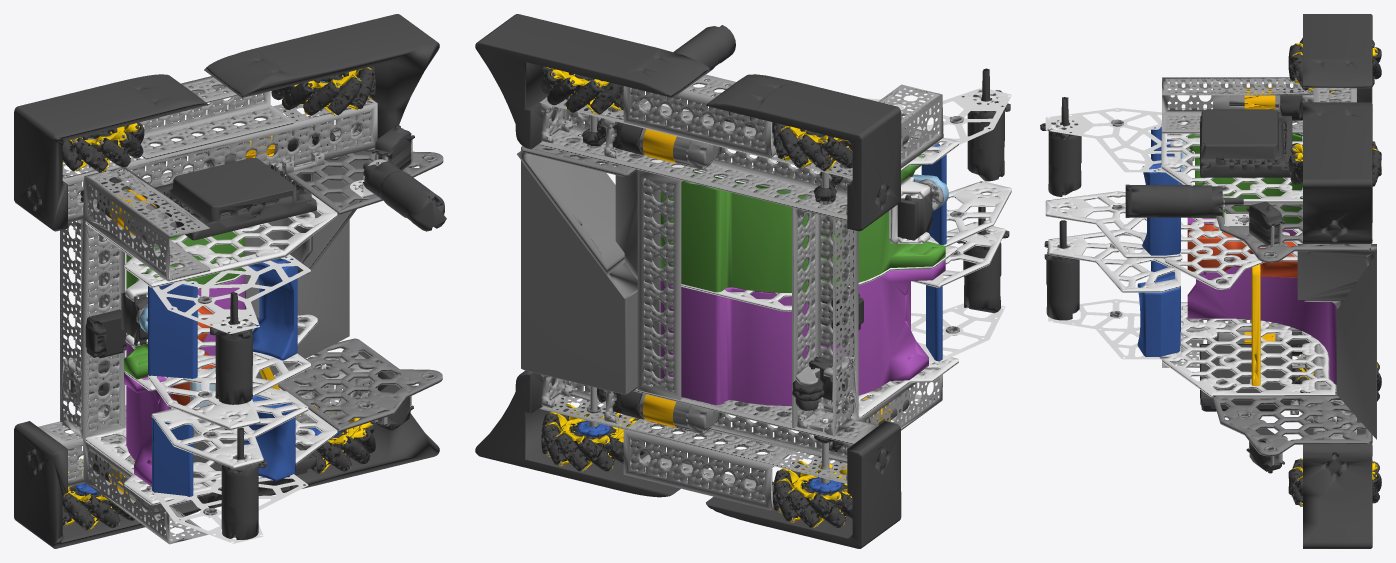
3 views of the same model, side by side, from view 1: azimuth 30°, elevation 25°; view 2: azimuth 150°, elevation 25°; view 3: azimuth 270°, elevation 25° (orthographic). The views are drawn at different scales.
Size of the model in its own units: 0.4422 by 0.452 by 0.3787.
